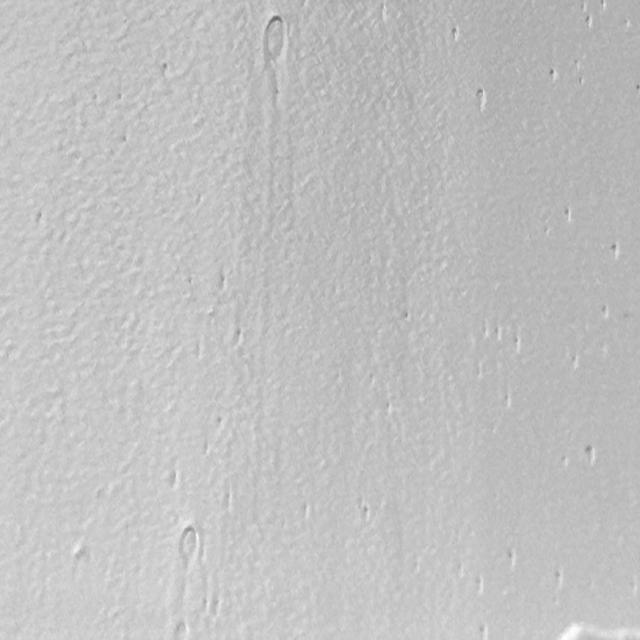pin holes: (260, 16, 292, 63), (177, 525, 203, 567), (581, 442, 601, 470), (171, 619, 192, 640), (358, 500, 376, 524), (470, 575, 488, 599), (502, 546, 520, 570), (558, 622, 582, 640), (550, 568, 568, 591), (165, 468, 182, 492), (510, 331, 527, 355), (498, 391, 514, 413), (230, 325, 246, 347), (608, 240, 624, 261), (475, 86, 489, 110), (562, 205, 578, 226), (299, 500, 314, 522), (448, 23, 462, 45), (475, 622, 491, 640), (569, 354, 583, 374), (214, 415, 230, 432), (597, 302, 612, 320), (581, 13, 596, 31), (493, 326, 507, 344), (160, 61, 173, 79), (218, 273, 230, 292), (558, 454, 572, 470), (400, 308, 414, 323), (547, 66, 559, 83), (382, 401, 395, 416), (577, 76, 587, 90), (622, 17, 632, 31), (597, 0, 608, 11), (482, 323, 489, 340), (632, 82, 638, 95)
